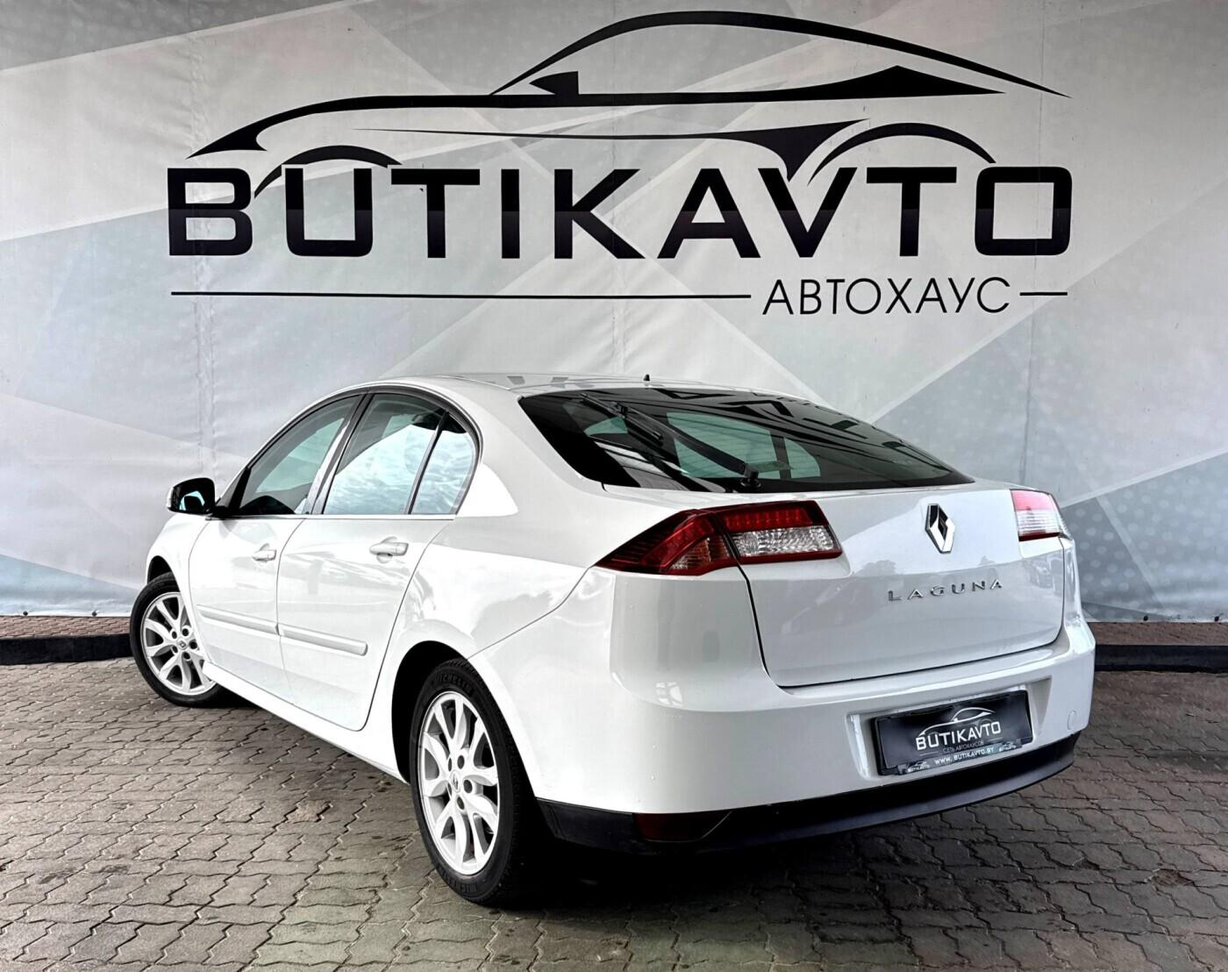Laguna_2010-2015: (118, 365, 1104, 902)
